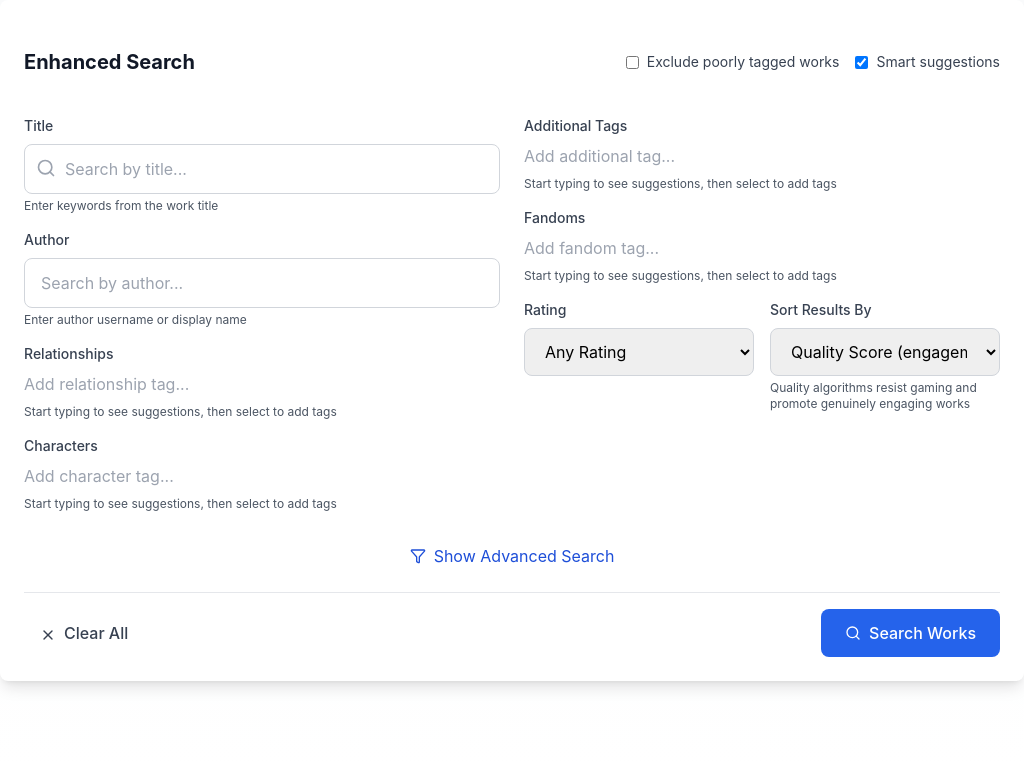
it: SearchForm - Accessibility-First Implementation › Advanced Search Toggle › updates ARIA attributes when expanded
This screenshot has width=1024, height=764.
Click the button "Show Advanced Search".
click(512, 556)  # box top-left (394, 536), bottom-right (630, 576)
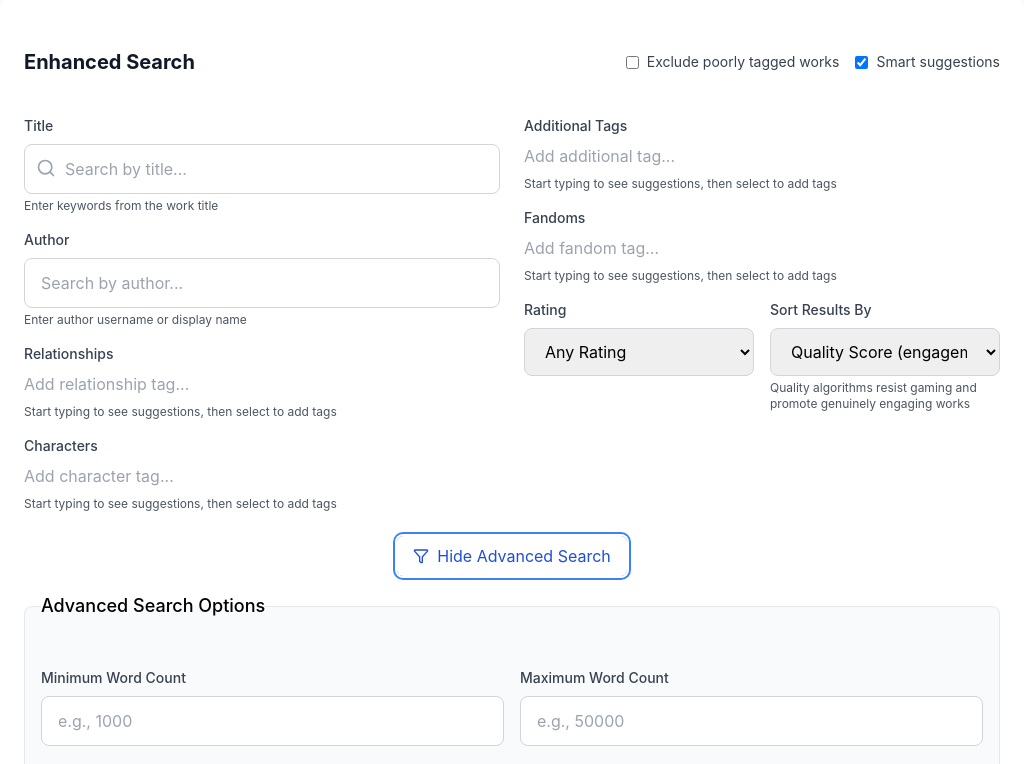
Check: the button named "show advanced search" is expanded, box top-left (397, 536), bottom-right (627, 576)
